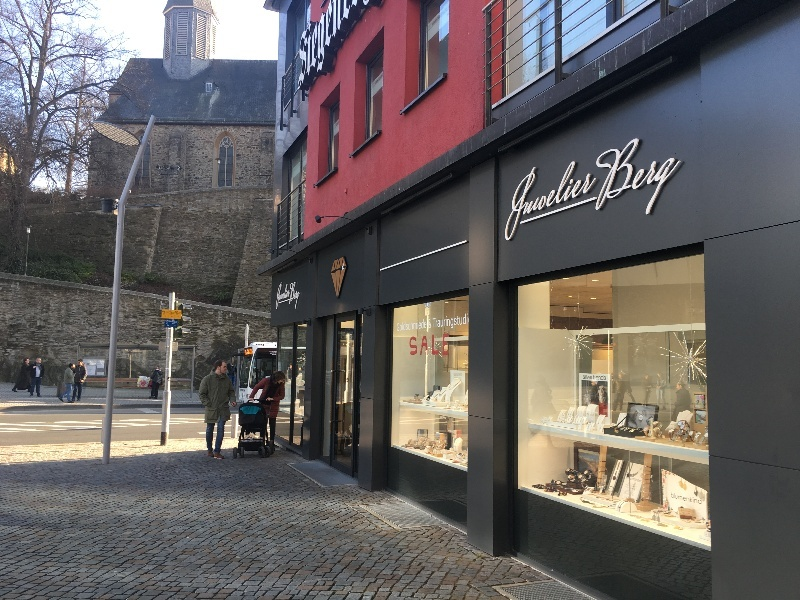text: (529, 124, 544, 243), (545, 124, 560, 243), (561, 124, 576, 243), (577, 124, 592, 243), (593, 124, 608, 243), (609, 124, 624, 243), (625, 124, 640, 243), (641, 124, 656, 243), (657, 124, 672, 243), (305, 1, 320, 110), (321, 1, 336, 110), (337, 1, 352, 110), (353, 1, 368, 110), (369, 1, 380, 110), (518, 124, 528, 243), (673, 124, 682, 243), (298, 1, 304, 110), (433, 334, 449, 356), (289, 282, 301, 310), (417, 334, 432, 356), (433, 313, 448, 332), (449, 313, 464, 332), (279, 282, 288, 310), (401, 319, 416, 332), (410, 334, 416, 356), (417, 319, 427, 332), (593, 375, 606, 381), (465, 313, 469, 332), (583, 375, 592, 381), (397, 319, 400, 332), (429, 319, 432, 329), (163, 311, 176, 313), (169, 311, 176, 314), (177, 311, 181, 314)
